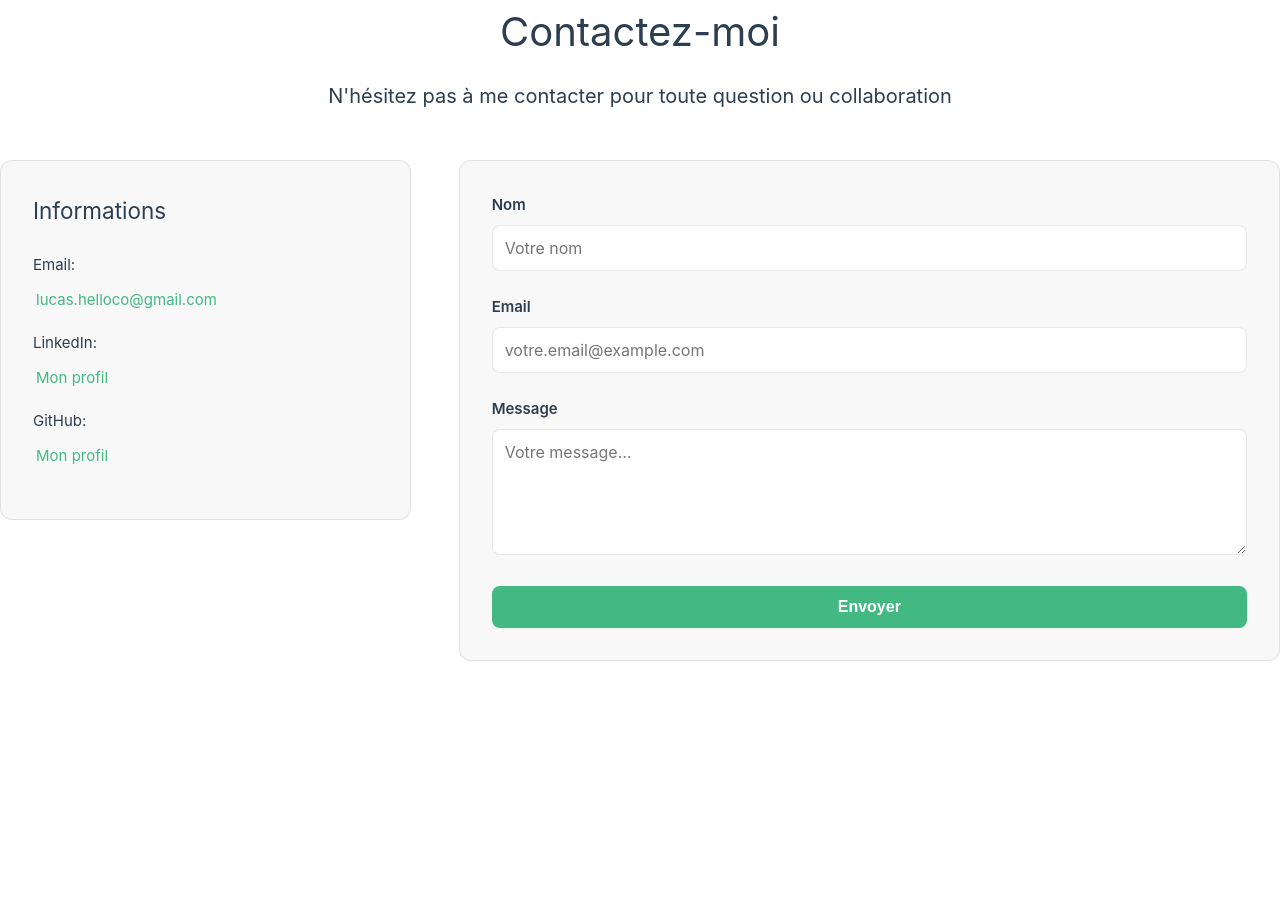
Test: ContactView › clears form after showing validation errors
In the field with id "name": x=869, y=248 left=492, top=225, right=1247, bottom=271, type "John"
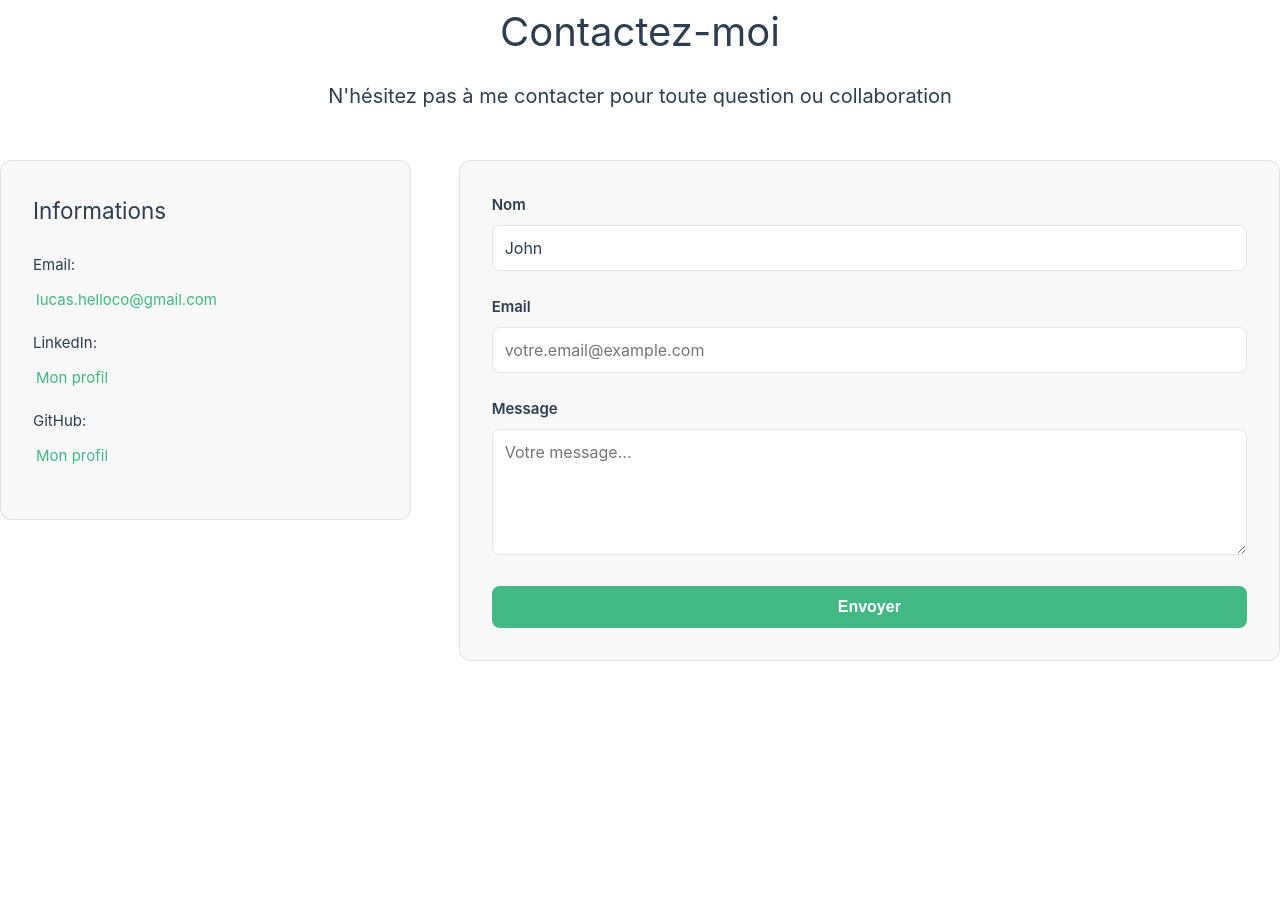
Submit the form, box left=459, top=160, right=1279, bottom=661
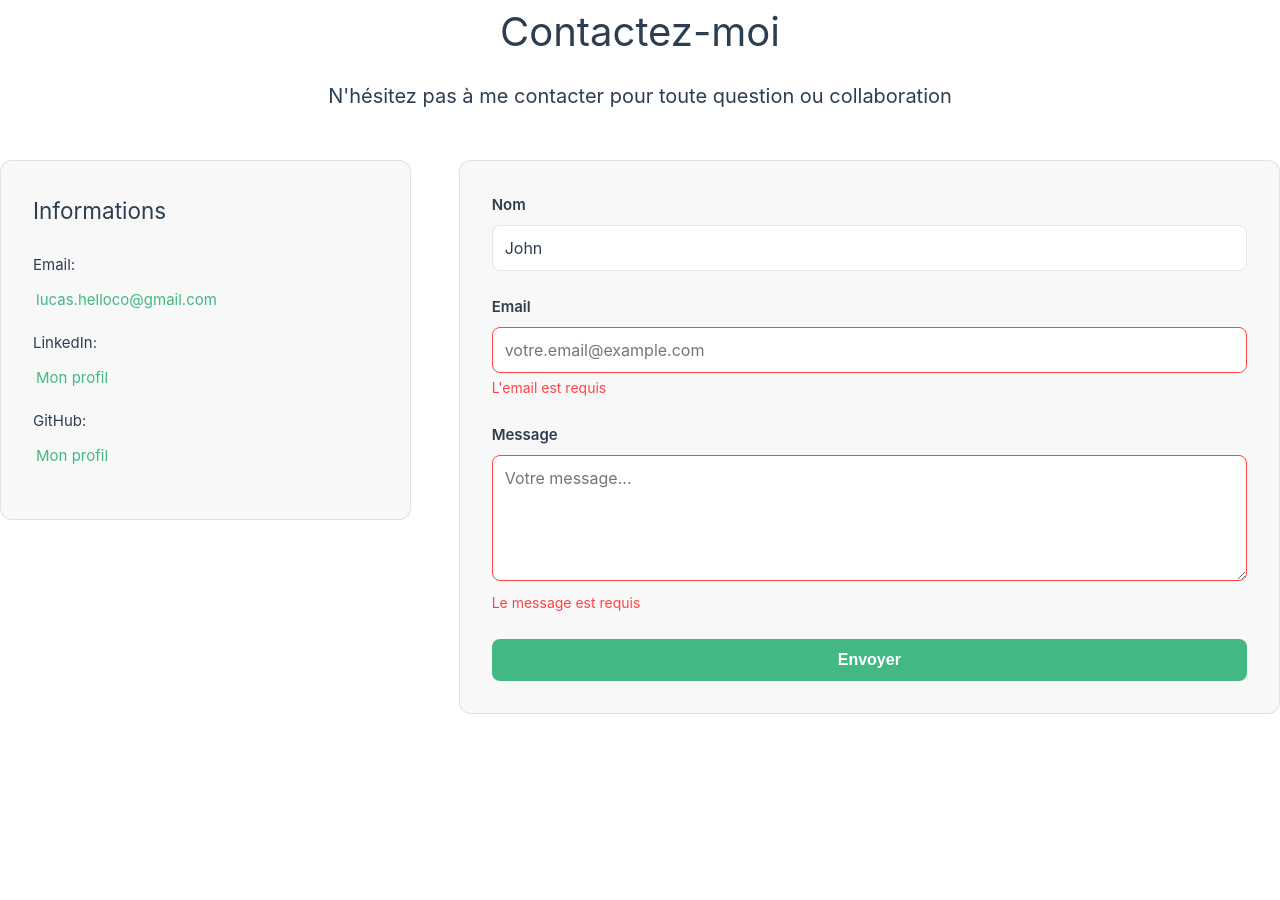
Check: the text "L'email est requis" is shown, box left=492, top=379, right=606, bottom=396
